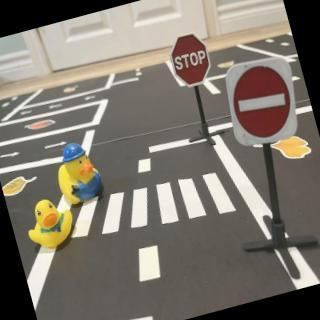duck_regular: (22, 194, 80, 255)
duck_specialty: (50, 139, 108, 211)
road_crosswalk: (59, 161, 241, 258)
road_oneway: (42, 137, 69, 154), (1, 148, 21, 164), (48, 102, 65, 113), (20, 108, 35, 118), (83, 94, 98, 103)
sign_noentry: (218, 51, 310, 154)
sign_stop: (166, 31, 217, 93)
